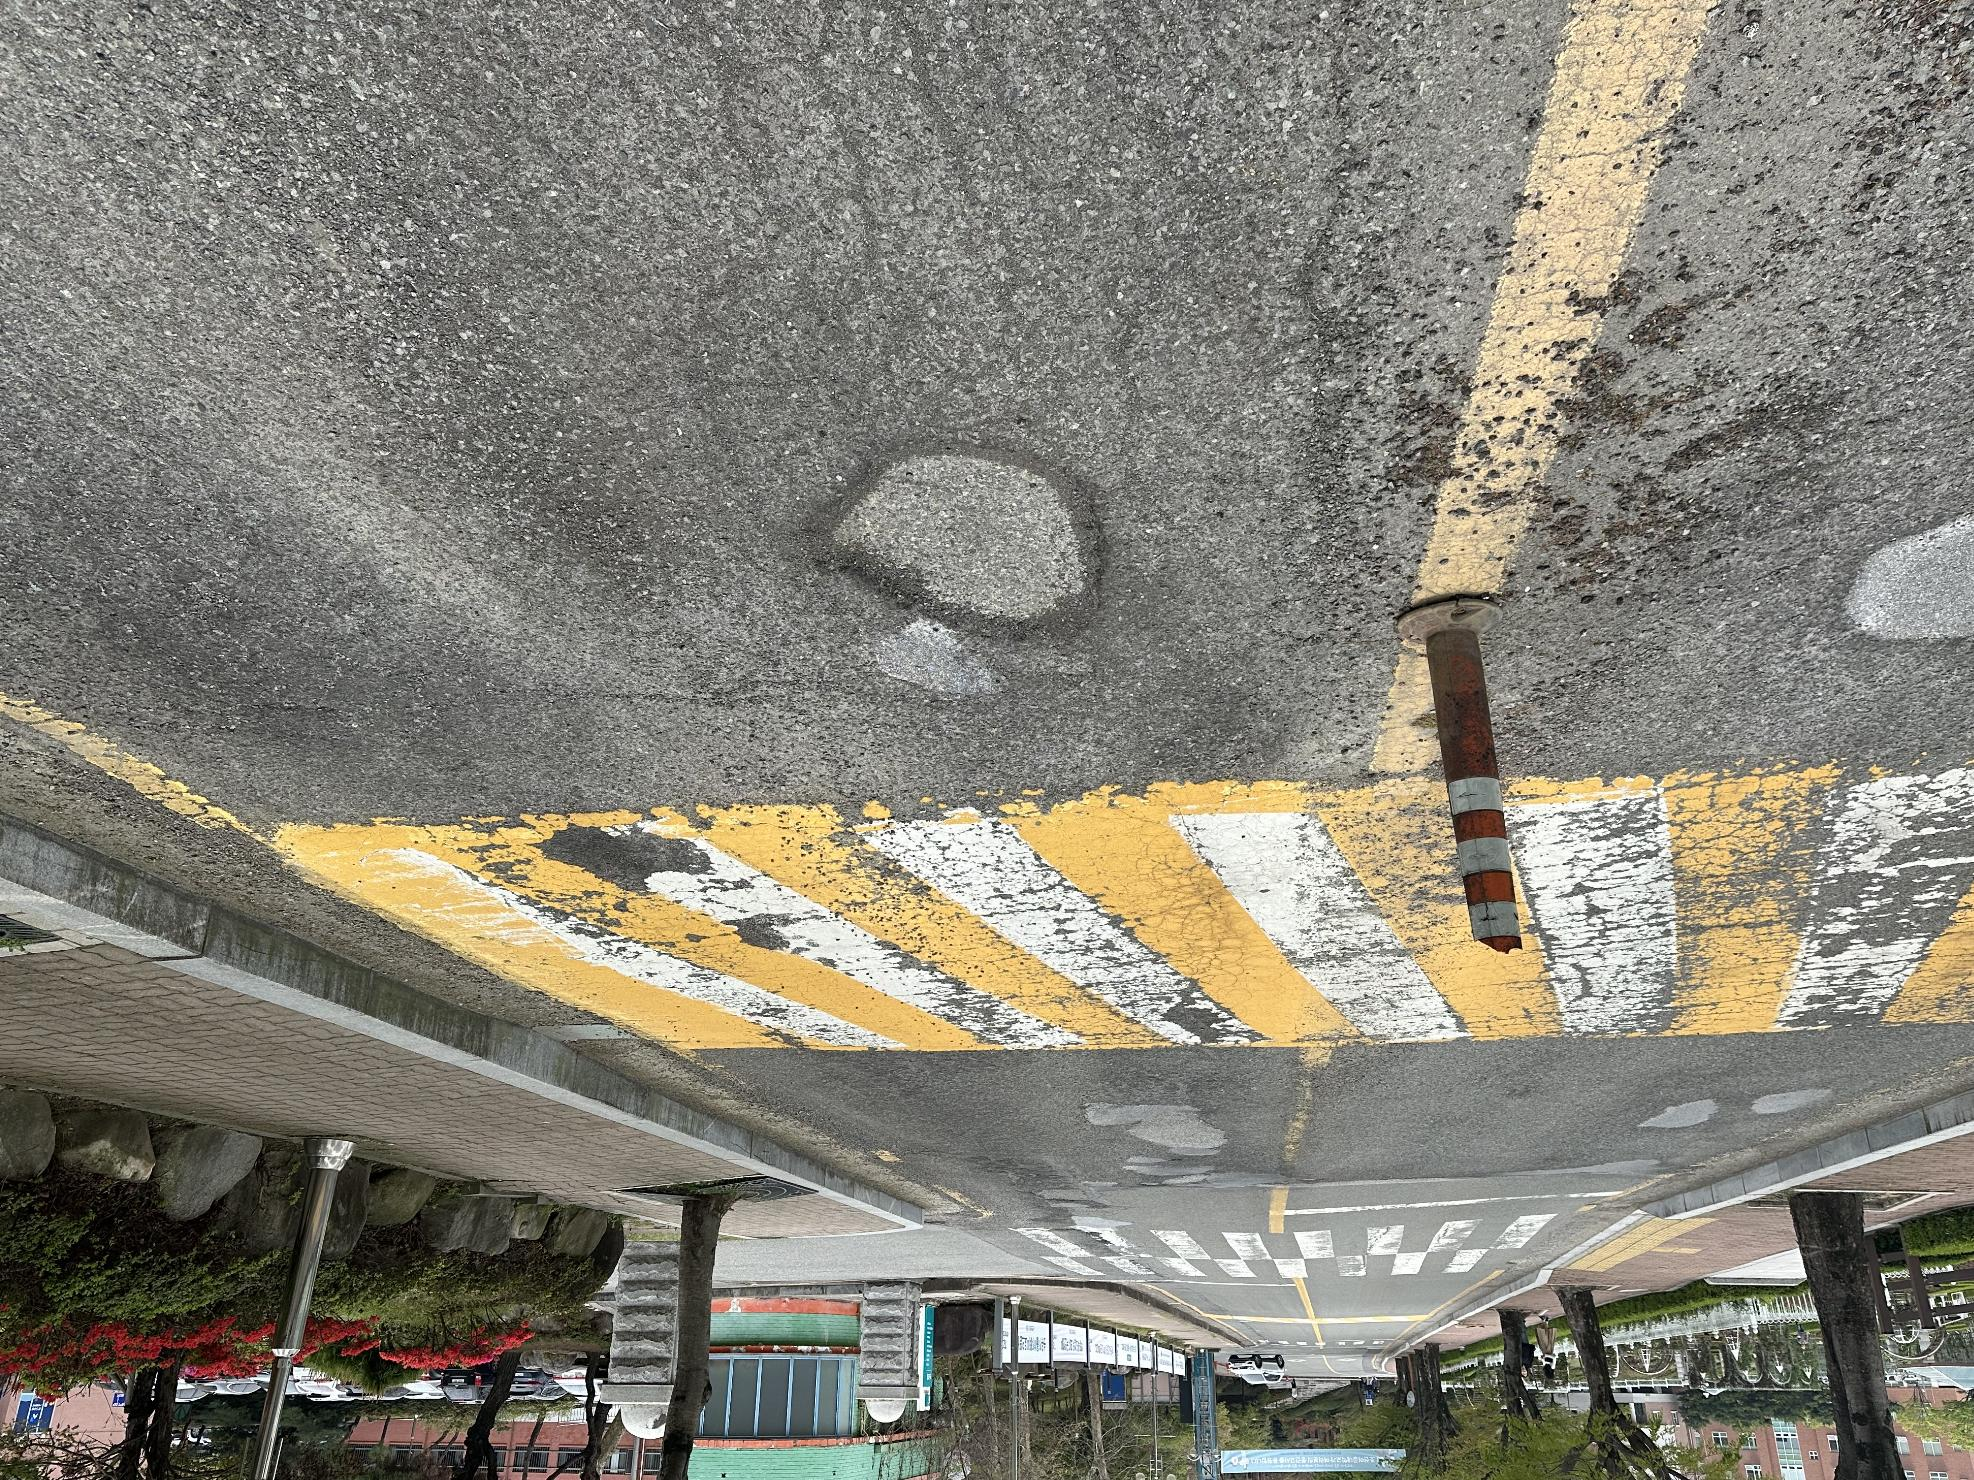pothole: (771, 390, 1150, 703)
